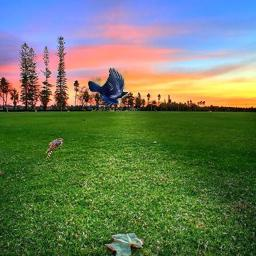Crow: (88, 68, 128, 107)
Cuckoo: (46, 138, 64, 159)
